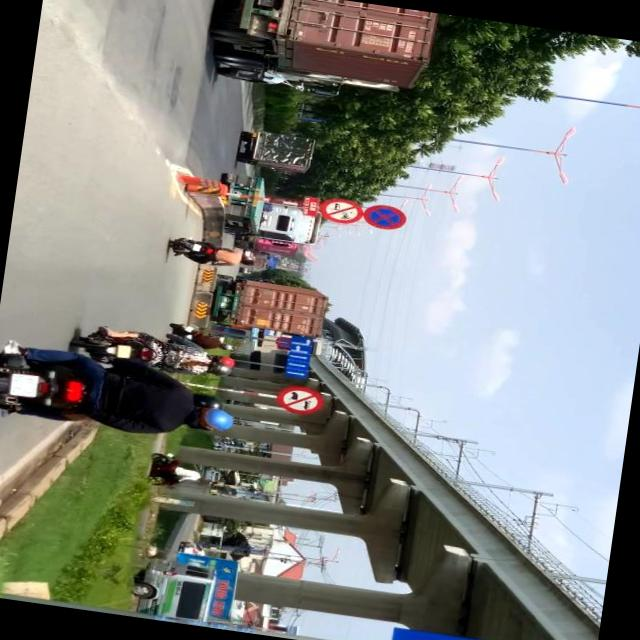P-130: (361, 202, 410, 232)
